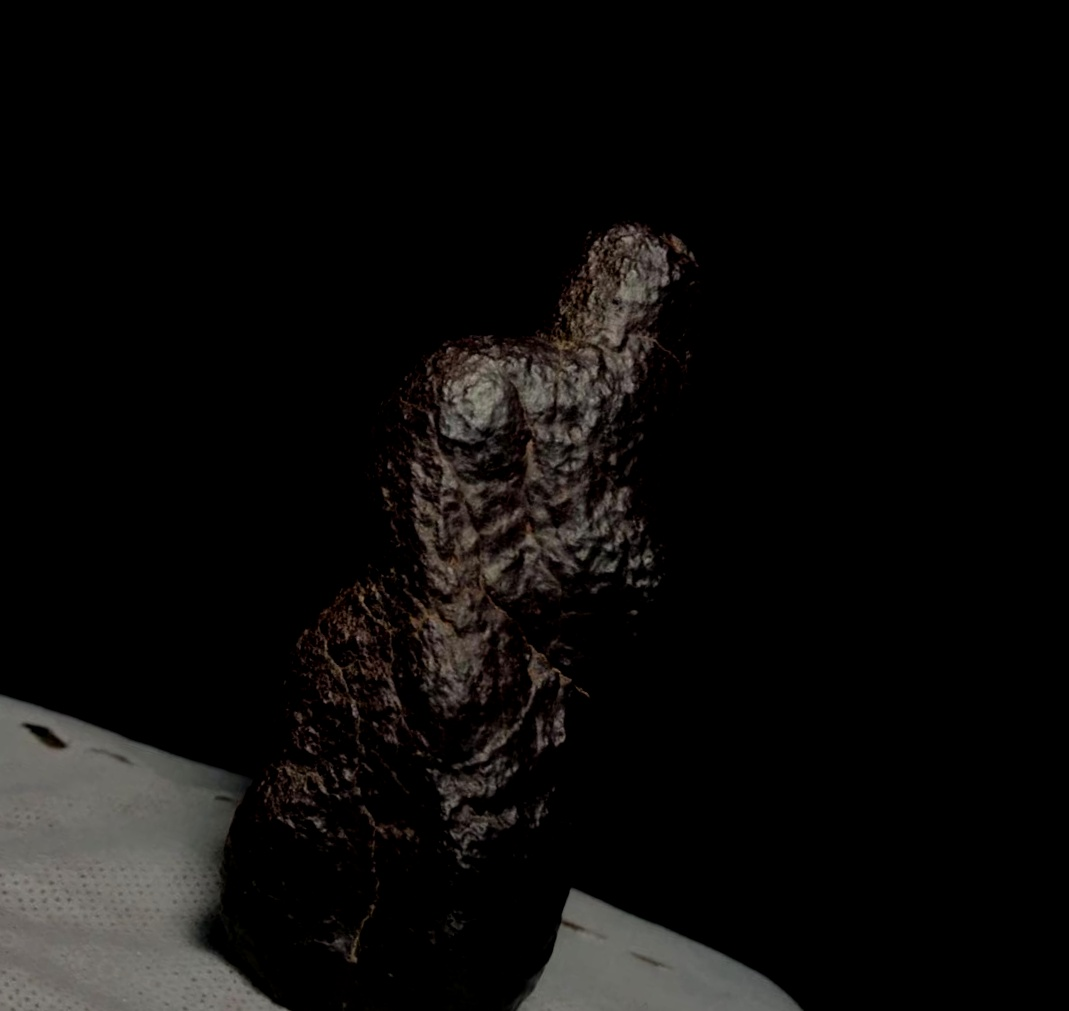halobolite: (114, 113, 843, 1011)
